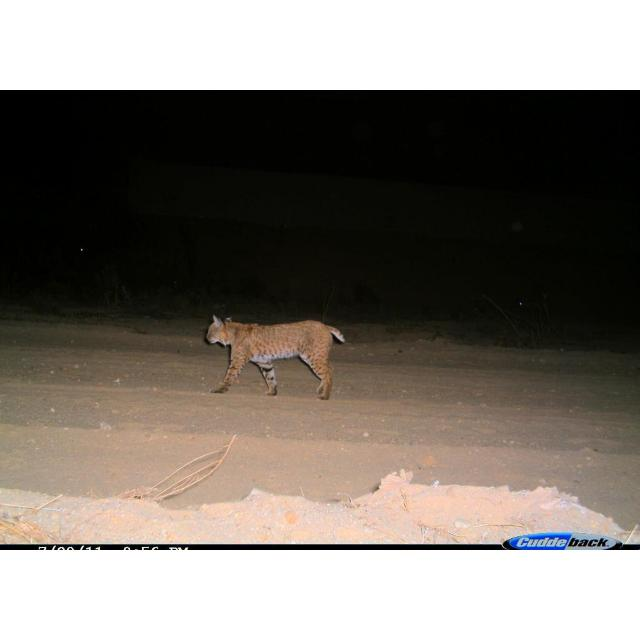animals: (204, 315, 346, 399)
